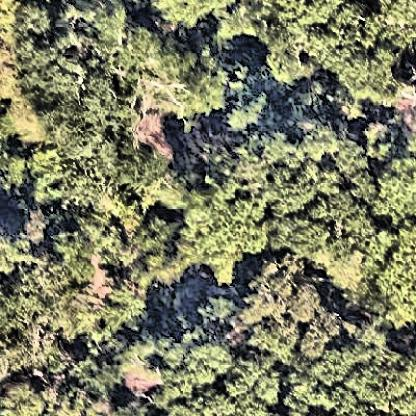tree-top: (13, 1, 133, 165), (222, 1, 416, 101), (261, 129, 383, 262), (116, 22, 233, 121), (1, 227, 103, 340), (143, 338, 286, 416), (286, 334, 416, 415), (243, 256, 339, 362), (177, 184, 268, 265), (361, 220, 416, 333), (60, 348, 120, 415), (98, 140, 171, 192), (118, 211, 174, 277), (5, 149, 69, 205), (375, 151, 416, 223), (221, 84, 271, 132), (4, 375, 51, 415)
